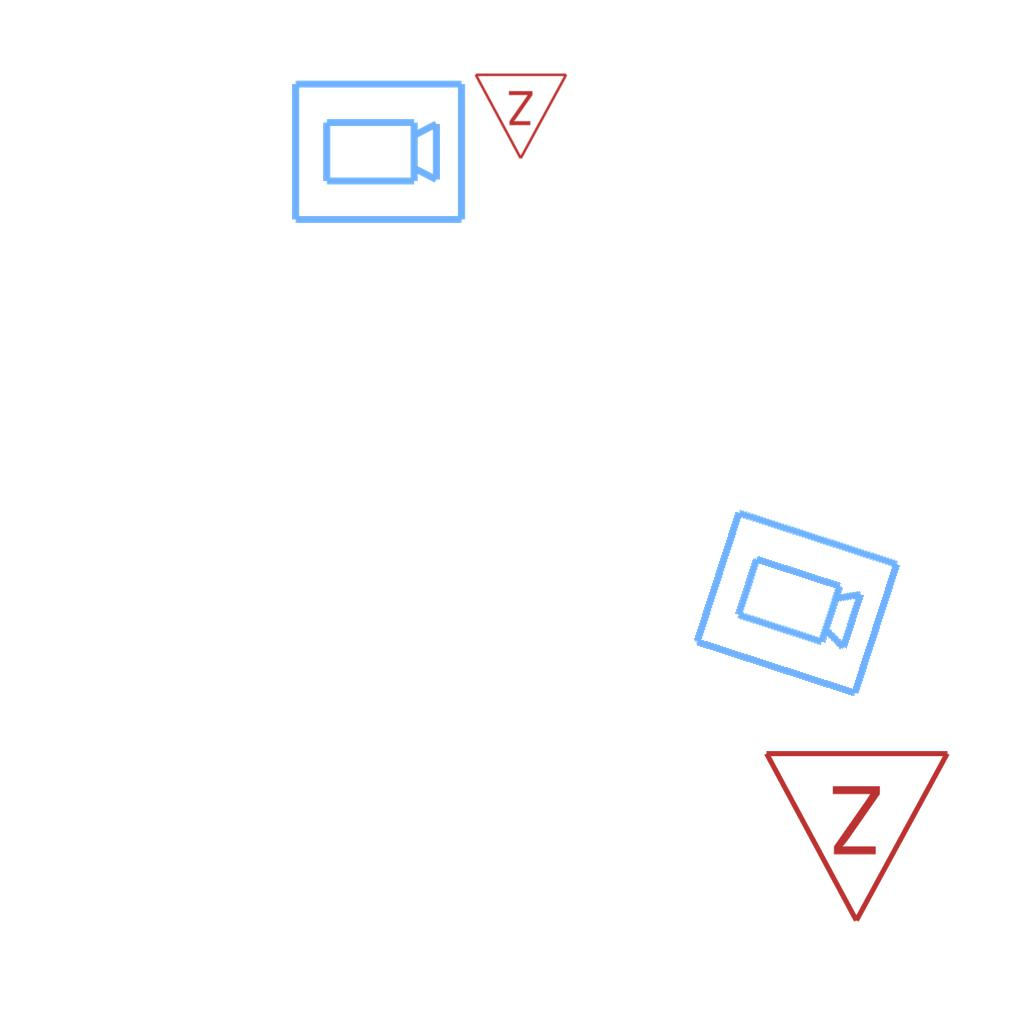KFO_Kamera_mit_Festobjektiv: (685, 502, 907, 706), (287, 76, 469, 230)
Zimmersignalleuchte: (761, 736, 957, 936), (473, 66, 571, 166)
